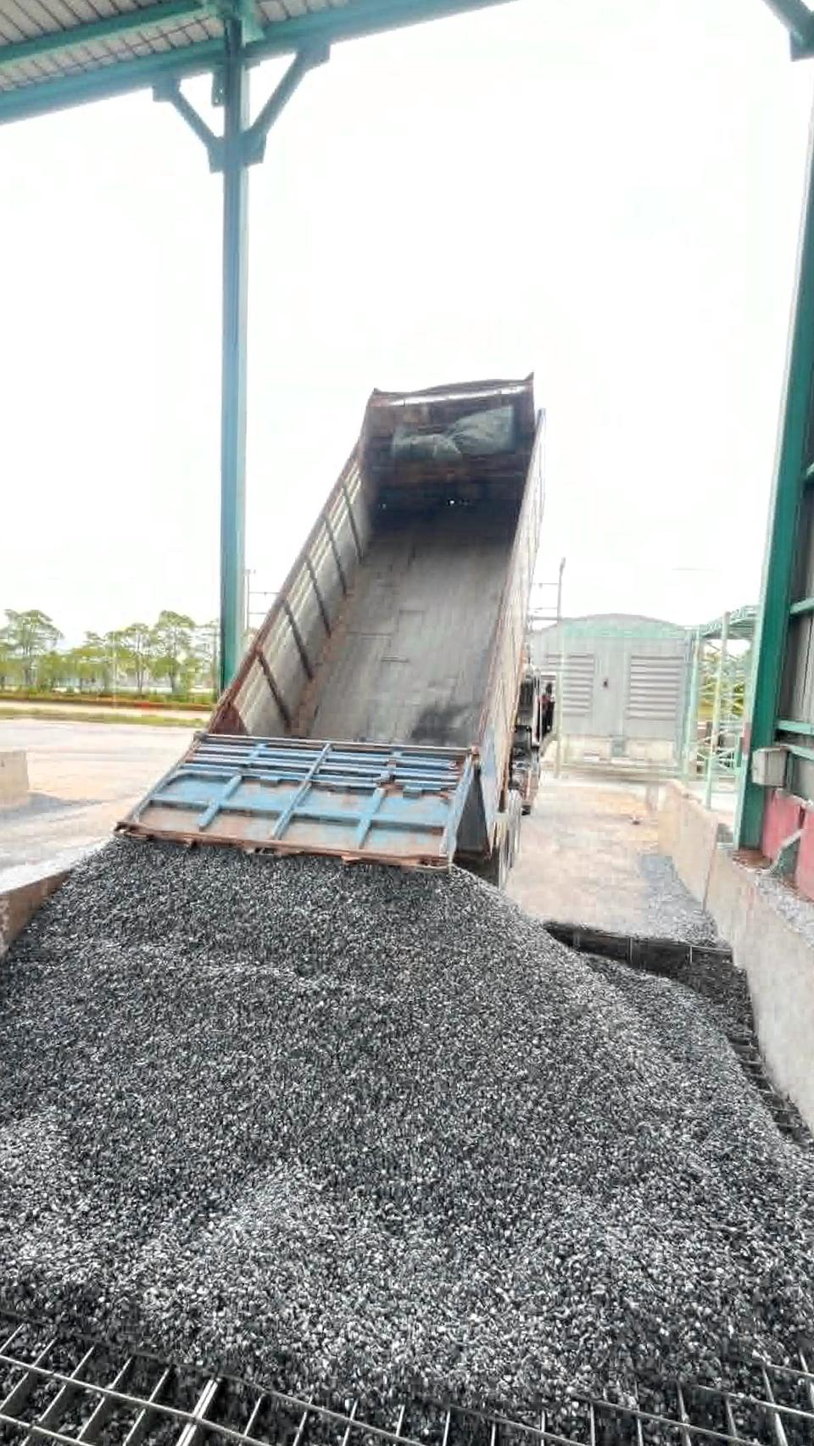gravel: (0, 840, 814, 1406), (0, 793, 95, 890), (631, 851, 718, 943), (755, 872, 814, 964)
